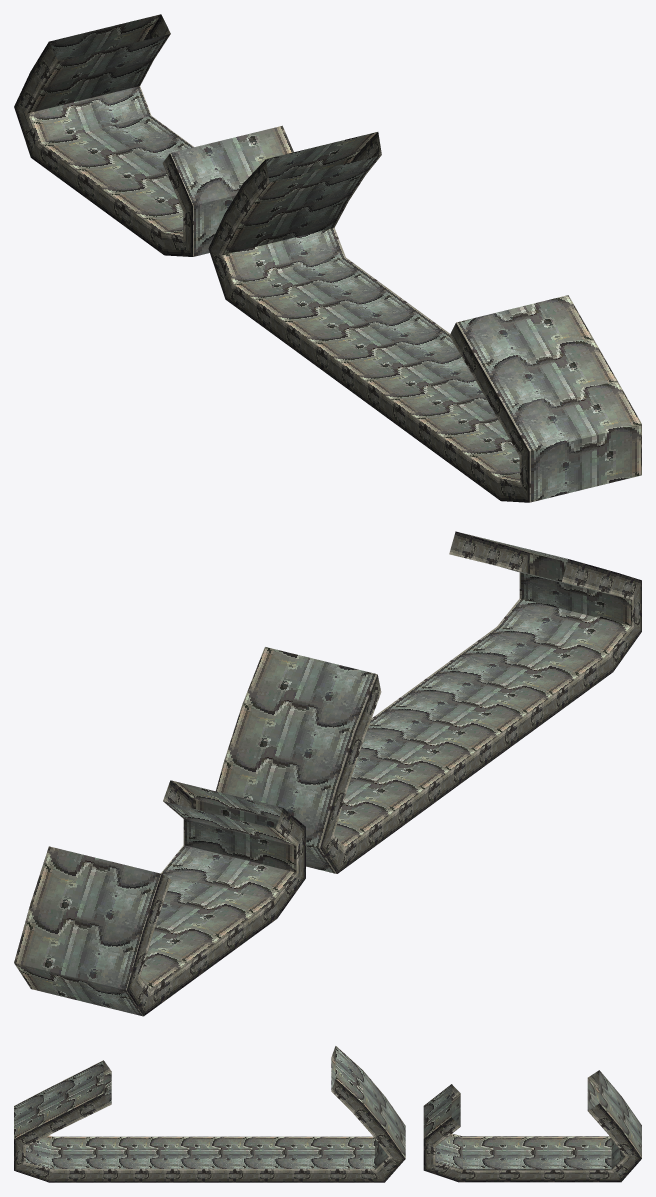
The model's file is VXBSTA_TRACK_L.bgf.obj.
3 views of the same model, one above another, from view 1: azimuth 30°, elevation 25°; view 2: azimuth 150°, elevation 25°; view 3: azimuth 270°, elevation 25° (orthographic). The views are drawn at different scales.
Parts seen in each view (by area): view 1: L_TRACK_A; view 2: L_TRACK_A; view 3: L_TRACK_A.
Boxes of the visible parts, x1=… form: L_TRACK_A: x1=14, y1=14, x2=641, y2=502; L_TRACK_A: x1=14, y1=531, x2=641, y2=1016; L_TRACK_A: x1=14, y1=1046, x2=641, y2=1182.
Size of the model in its own units: 1.5 by 2.15 by 11.83.
1 material, 1 textured.
